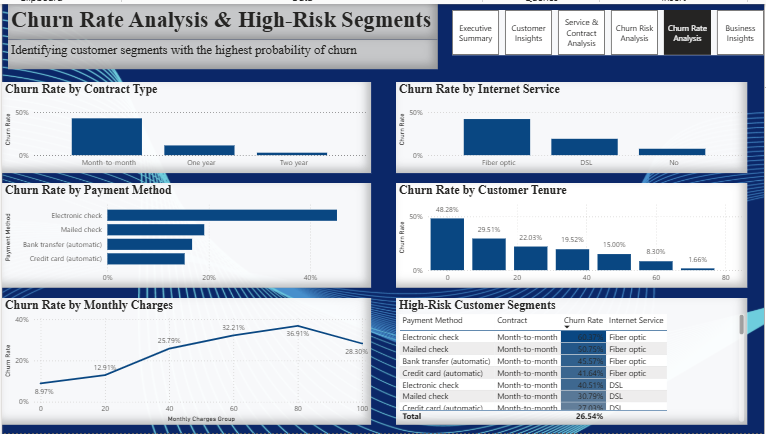

This screenshot's page, from the dashboard's own definition file:
{"tool":"powerbi","page":{"name":"Churn Rate Analysis","canvas":[1280,720],"ordinal":4},"visuals":[{"type":"textbox","box":[10.1,0,722.3,60.5],"z":0},{"type":"textbox","box":[10.1,60.5,722.3,48.7],"z":1000},{"type":"clusteredColumnChart","title":"Churn Rate by Contract Type","fields":{"Category":["Customer_Churn.Contract"],"Y":["Customer_Churn.Churn Rate"]},"box":[0,131,619.8,152.9],"z":2000},{"type":"clusteredColumnChart","title":"Churn Rate by Internet Service","fields":{"Category":["Customer_Churn.Internet Service"],"Y":["Customer_Churn.Churn Rate"]},"box":[661.8,131,589.6,152.9],"z":3000},{"type":"clusteredBarChart","title":"Churn Rate by Payment Method","fields":{"Category":["Customer_Churn.Payment Method"],"Y":["Customer_Churn.Churn Rate"]},"box":[0,300.7,619.8,176.4],"z":4000},{"type":"lineClusteredColumnComboChart","title":"Churn Rate by Customer Tenure","fields":{"Category":["Customer_Churn.Tenure Group"],"Y":["Customer_Churn.Churn Rate"]},"box":[661.8,300.7,589.6,176.4],"z":5000},{"type":"lineChart","title":"Churn Rate by Monthly Charges","fields":{"Category":["Customer_Churn.Monthly Charges Group"],"Y":["Customer_Churn.Churn Rate"]},"box":[0,493.9,619.8,213.3],"z":6000},{"type":"tableEx","title":"High-Risk Customer Segments","fields":{"Values":["Customer_Churn.Payment Method","Customer_Churn.Contract","Customer_Churn.Churn Rate","Customer_Churn.Internet Service"]},"box":[661.8,493.9,589.6,213.3],"z":7000},{"type":"pageNavigator","box":[755.9,10.1,524.1,75.6],"z":8000}]}

Visuals, with their boxes in screenshot pixels (x1, y1, x2, y2):
textbox: left=10, top=4, right=436, bottom=40
textbox: left=10, top=40, right=436, bottom=68
"Churn Rate by Contract Type" clusteredColumnChart: left=4, top=81, right=370, bottom=172
"Churn Rate by Internet Service" clusteredColumnChart: left=395, top=81, right=743, bottom=172
"Churn Rate by Payment Method" clusteredBarChart: left=4, top=181, right=370, bottom=286
"Churn Rate by Customer Tenure" lineClusteredColumnComboChart: left=395, top=181, right=743, bottom=286
"Churn Rate by Monthly Charges" lineChart: left=4, top=295, right=370, bottom=421
"High-Risk Customer Segments" tableEx: left=395, top=295, right=743, bottom=421
pageNavigator: left=450, top=10, right=759, bottom=55
